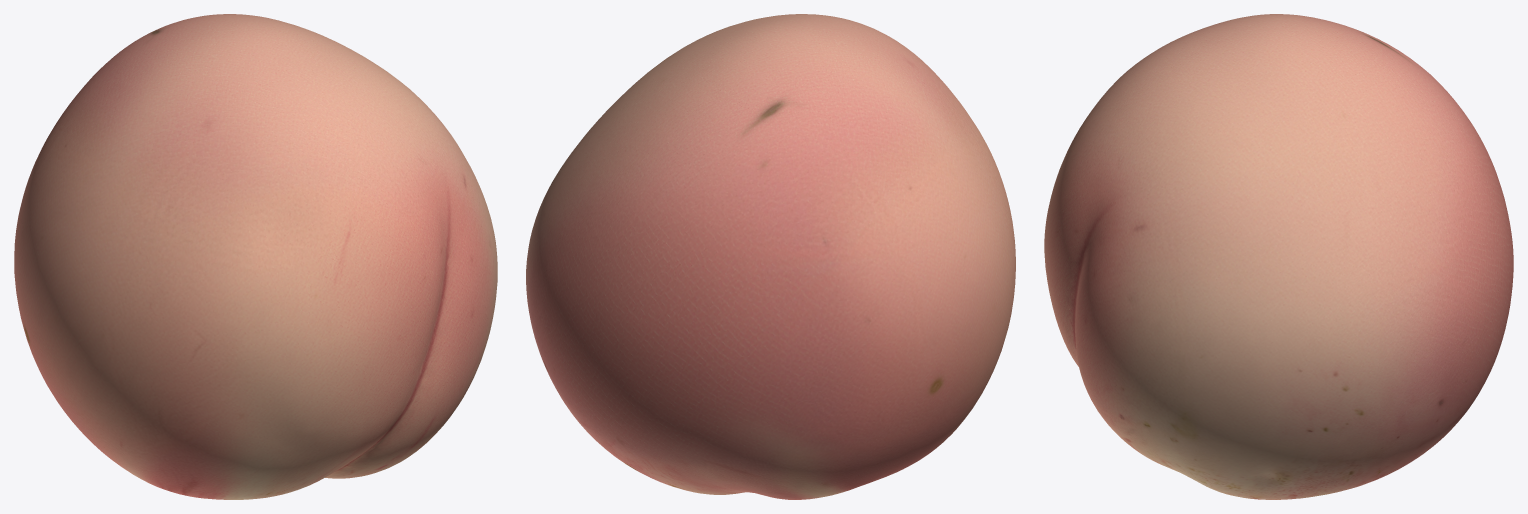
Rendered from white_peach.obj.
3 renders of one model, left to right at view 1: azimuth 30°, elevation 25°; view 2: azimuth 150°, elevation 25°; view 3: azimuth 270°, elevation 25°, orthographic. The views are drawn at different scales.
Visible parts, largest first — view 1: white_peach; view 2: white_peach; view 3: white_peach.
Boxes of the visible parts, x1,y1,x2,y2 form: white_peach: (14, 14, 497, 499); white_peach: (526, 14, 1015, 499); white_peach: (1044, 14, 1513, 499).
Bounding box in the file's own units: 0.0683 × 0.068 × 0.0683.
1 material, 1 textured.
